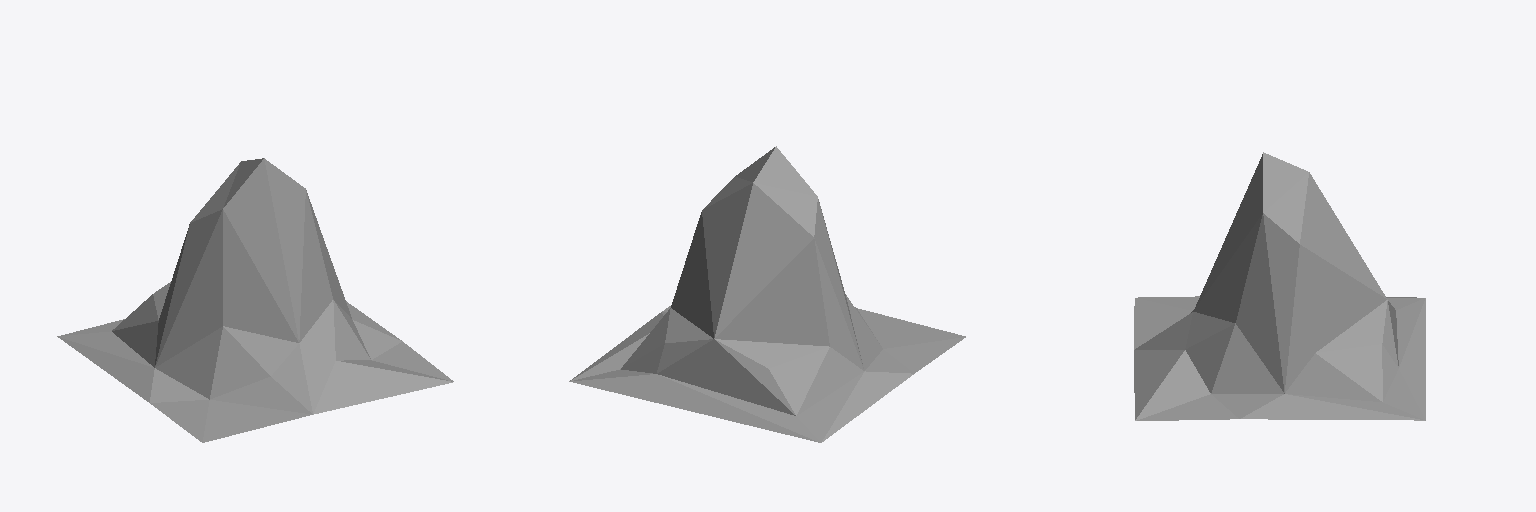
File: Terrain.obj
3 views of the same model, side by side, from view 1: azimuth 30°, elevation 25°; view 2: azimuth 150°, elevation 25°; view 3: azimuth 270°, elevation 25° (orthographic).
Parts seen in each view (by area): view 1: Plane; view 2: Plane; view 3: Plane.
Boxes of the visible parts, x1=… form: Plane: x1=57, y1=158, x2=453, y2=442; Plane: x1=569, y1=146, x2=965, y2=442; Plane: x1=1134, y1=152, x2=1425, y2=420.
Bounding box in the file's own units: 3.78 × 2.96 × 3.77.